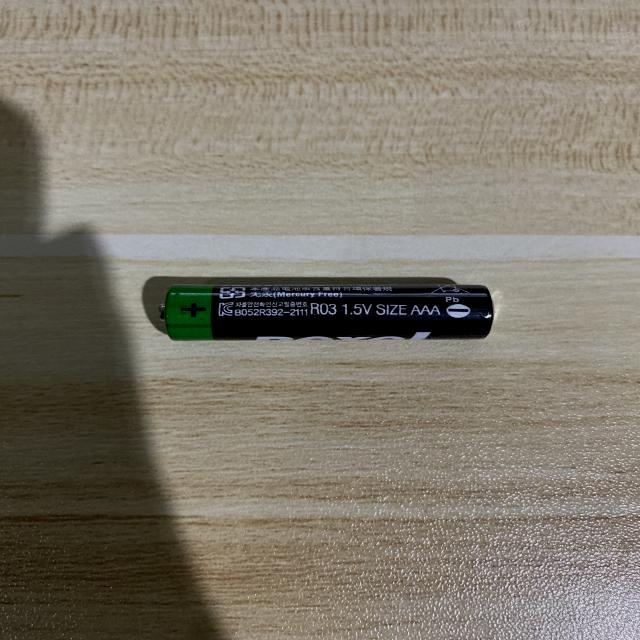AAA: (158, 283, 494, 339)
